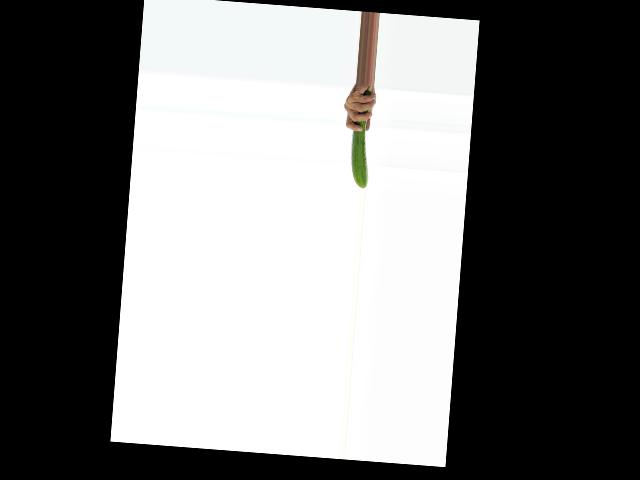cucumber: (348, 85, 375, 189)
